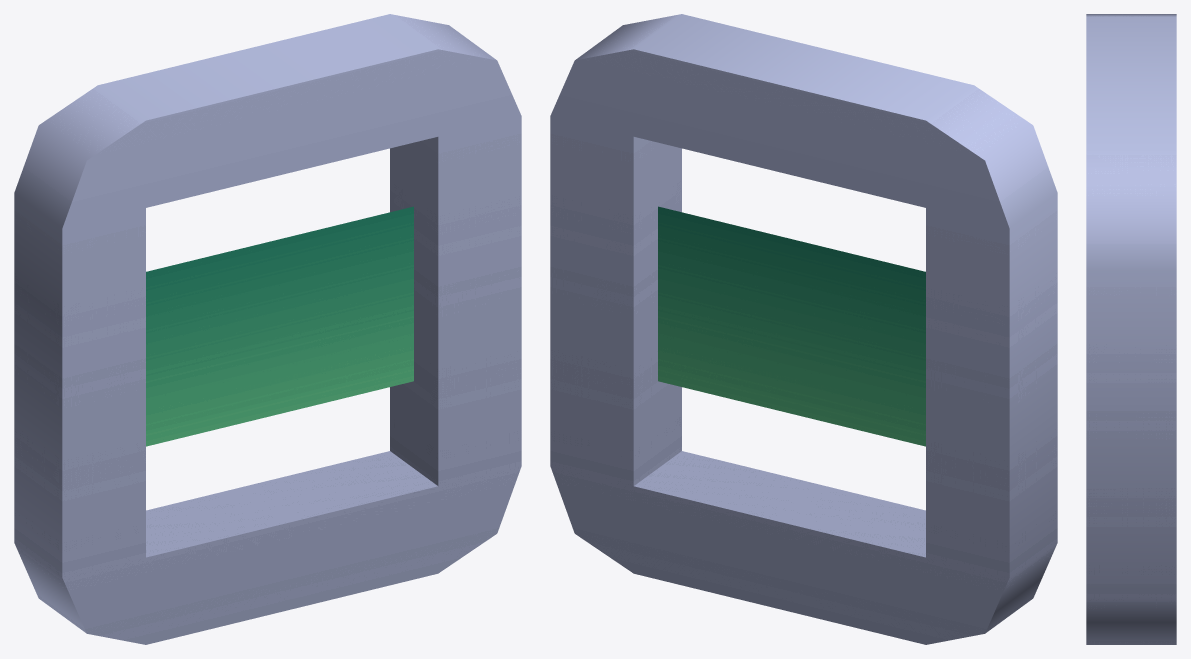
Rendered from door-right_lev2.glb.
The picture shows the model from 3 angles, left to right: view 1: azimuth 30°, elevation 25°; view 2: azimuth 150°, elevation 25°; view 3: azimuth 270°, elevation 25°; orthographic projection. The views are drawn at different scales.
Visible parts, largest first — view 1: door-right_lev2; view 2: door-right_lev2; view 3: door-right_lev2.
Part boxes in pixels (bbox=[...]): door-right_lev2: bbox=[14, 14, 521, 644]; door-right_lev2: bbox=[550, 14, 1057, 644]; door-right_lev2: bbox=[1086, 14, 1176, 644].
Bounding box in the file's own units: 0.275 × 0.3 × 0.05.
Materials: 1 (1 with a texture image).
